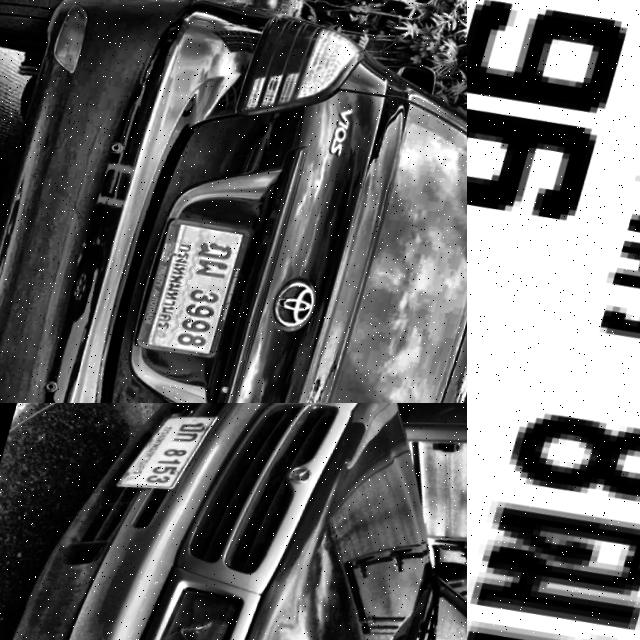license-plate: (467, 0, 640, 403), (467, 403, 640, 640), (136, 214, 263, 367), (105, 403, 228, 512)
